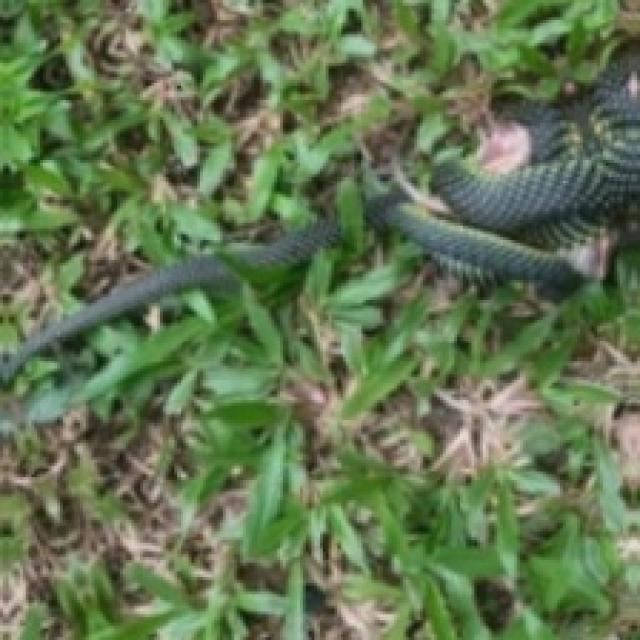paradise tree snake: (0, 3, 637, 380)
